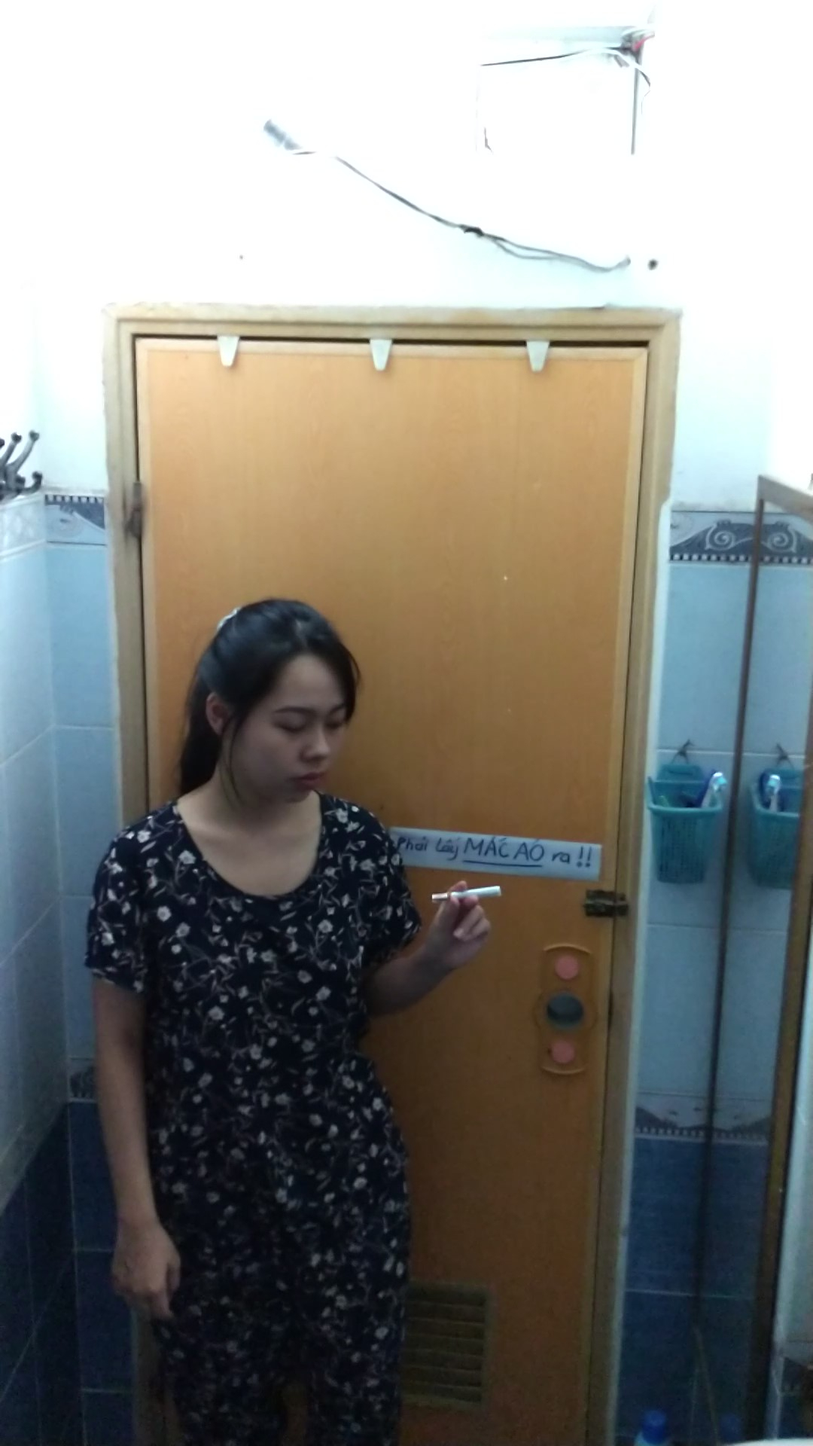cigarette: (467, 878, 510, 903)
person: (80, 587, 496, 1446)
